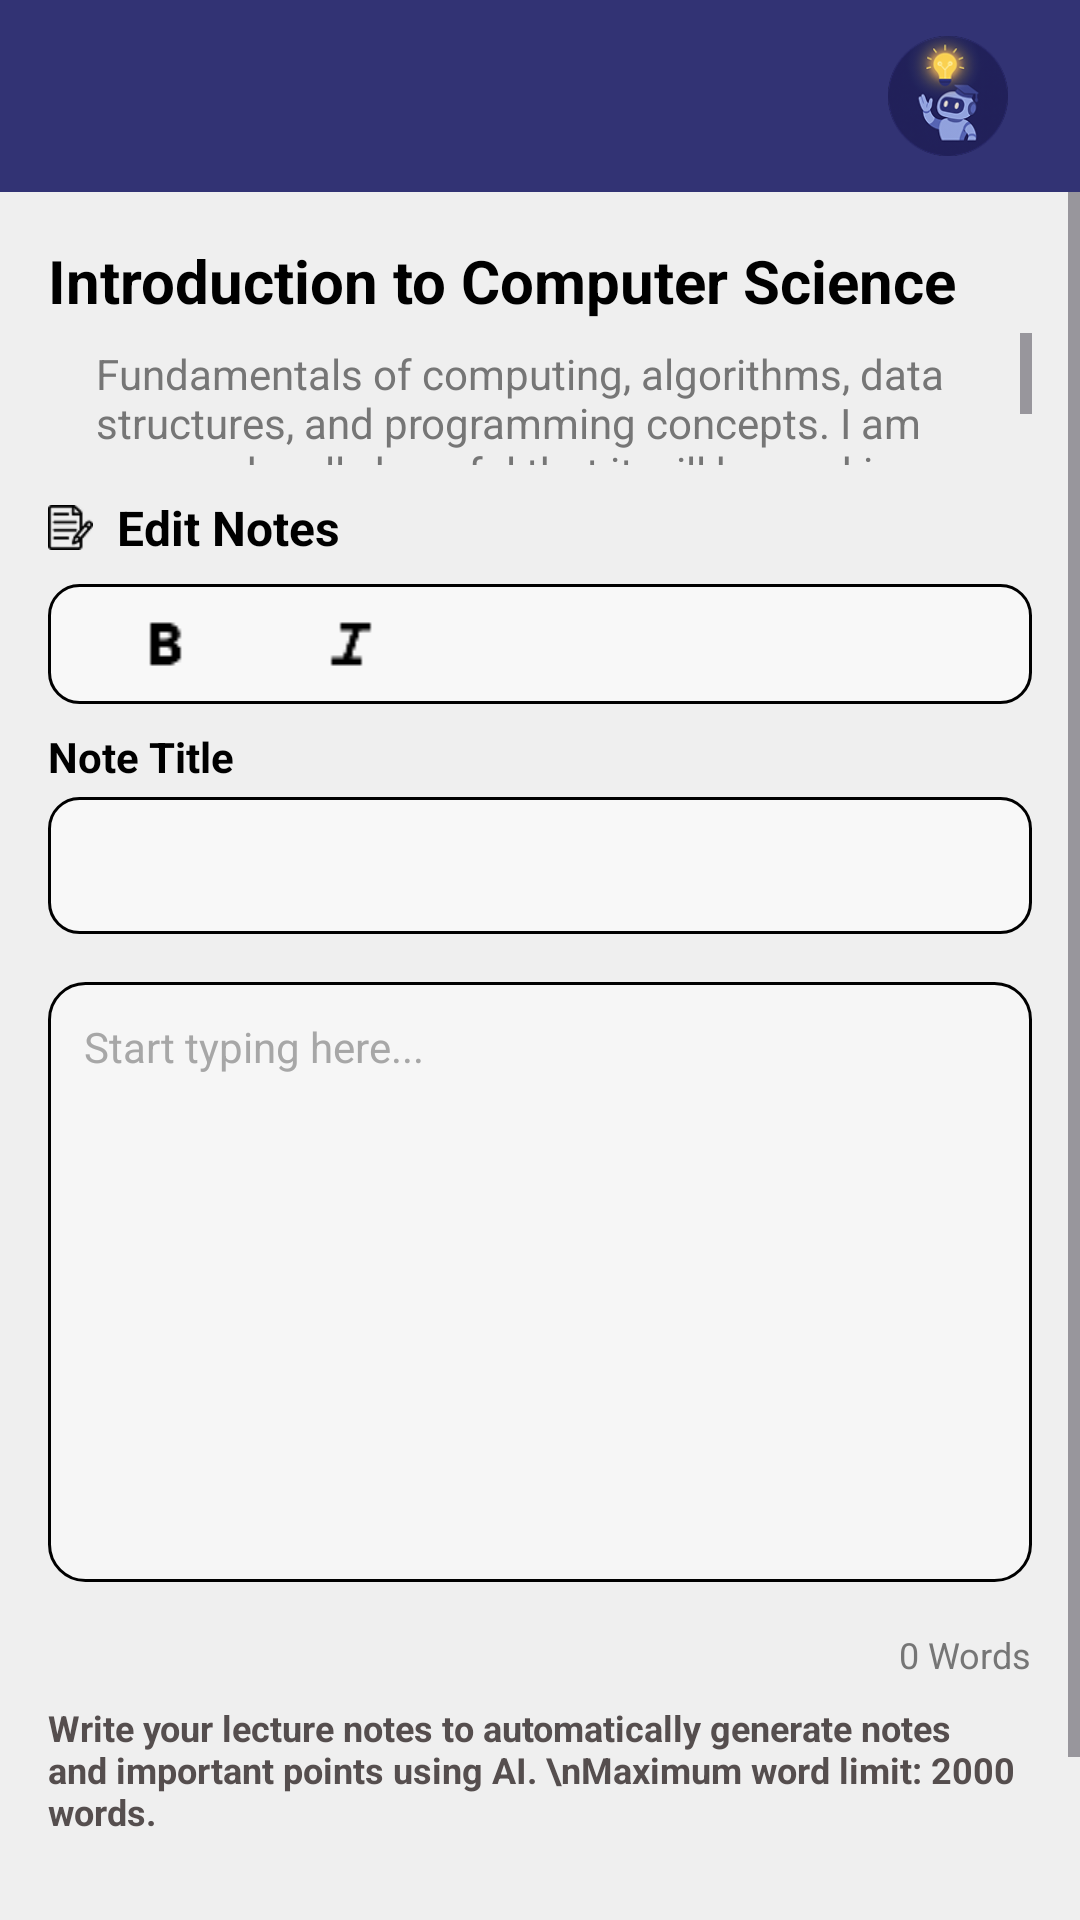

Where icons sit on this 1080w x 1920h app screen, as (x1, y1, x2, y2):
Bold: (149, 622, 182, 666)
Italic: (330, 622, 372, 666)
